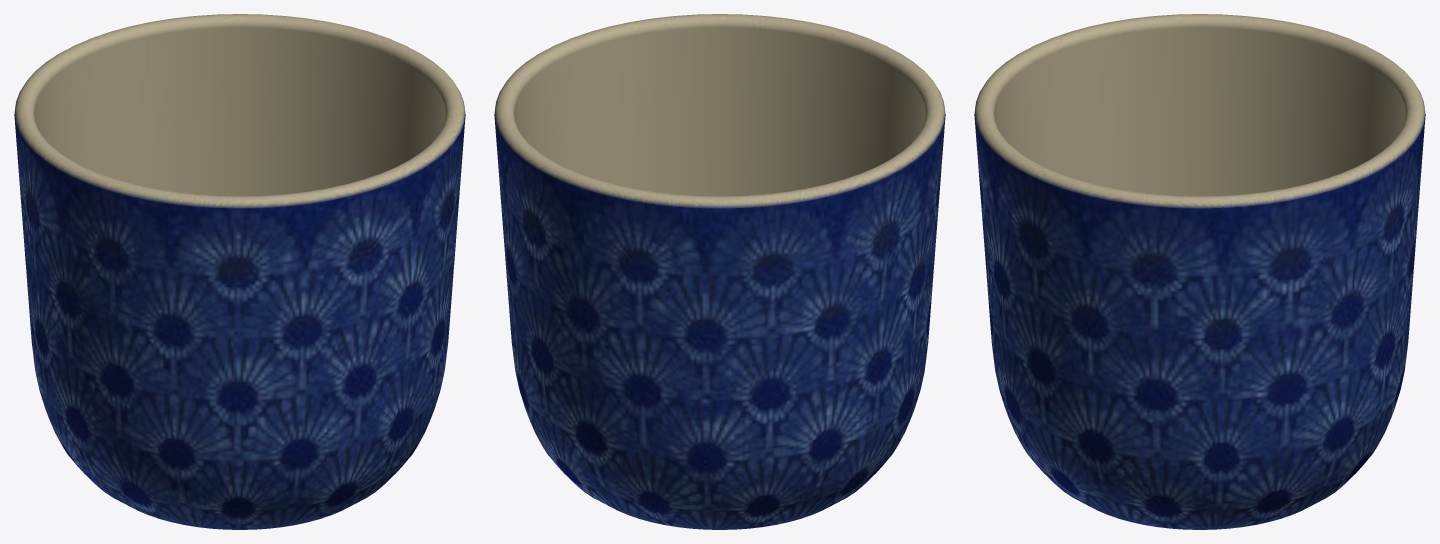
The model's file is B083YFL9JB.glb.
3 views of the same model, side by side, from view 1: azimuth 30°, elevation 25°; view 2: azimuth 150°, elevation 25°; view 3: azimuth 270°, elevation 25° (orthographic).
Parts seen in each view (by area): view 1: RootNode; view 2: RootNode; view 3: RootNode.
Boxes of the visible parts, x1,y1,x2,y2 form: RootNode: (14, 14, 465, 529); RootNode: (494, 14, 945, 529); RootNode: (974, 14, 1425, 529).
Size of the model in its own units: 0.2065 by 0.1904 by 0.2065.
1 material, 1 textured.
